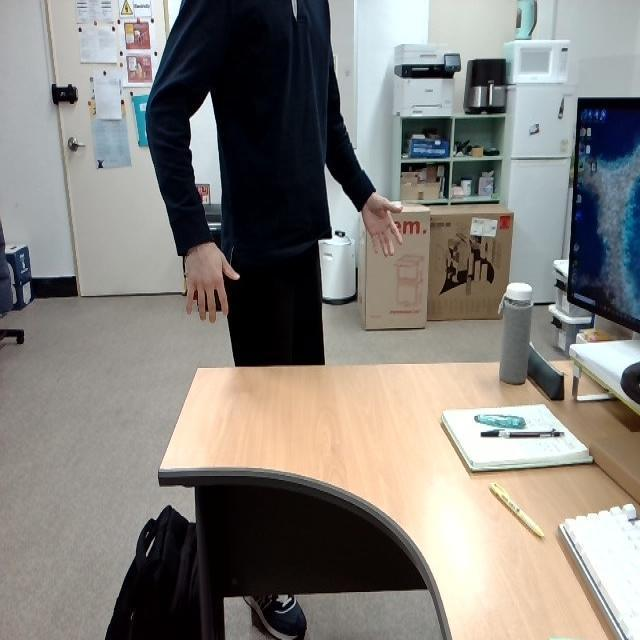bare_hand: (180, 236, 242, 325), (355, 187, 405, 263)
